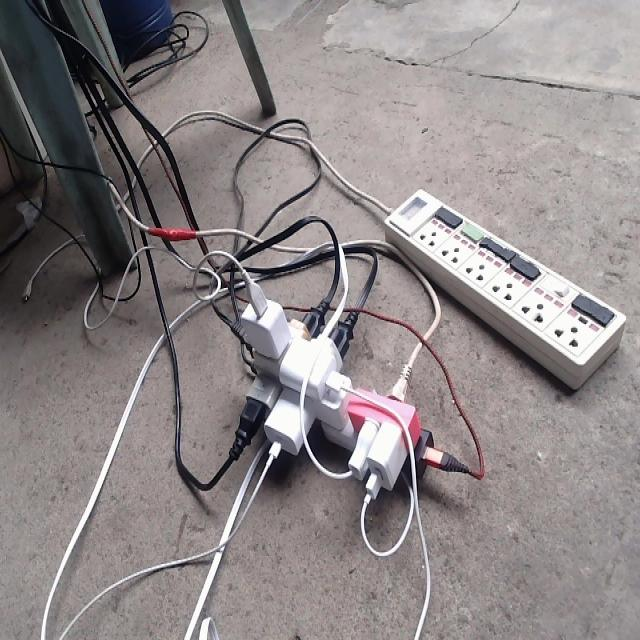-: (218, 297, 442, 499)
